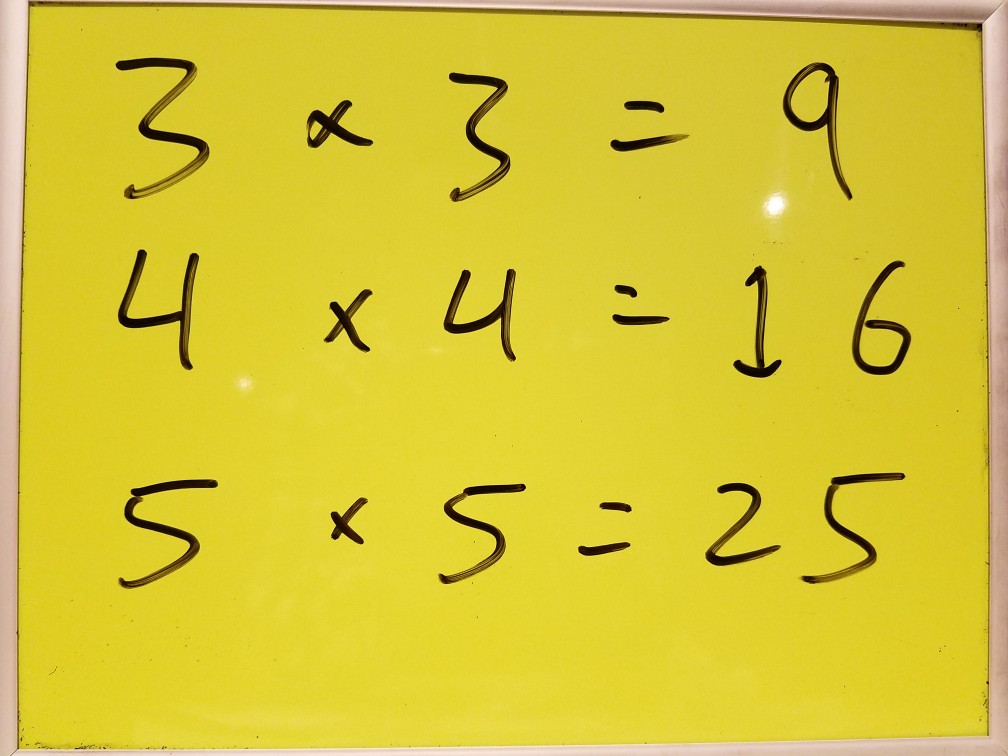1: (723, 252, 794, 394)
2: (691, 458, 788, 589)
3: (105, 39, 221, 201), (432, 58, 522, 212)
4: (106, 236, 217, 379), (433, 253, 533, 381)
5: (97, 465, 236, 600), (798, 454, 911, 594), (421, 466, 536, 601)
6: (833, 239, 927, 385)
9: (783, 54, 862, 204)
=: (591, 75, 697, 163), (588, 263, 676, 339), (571, 485, 641, 573)
x: (292, 85, 375, 166), (312, 276, 379, 362), (310, 479, 373, 558)
